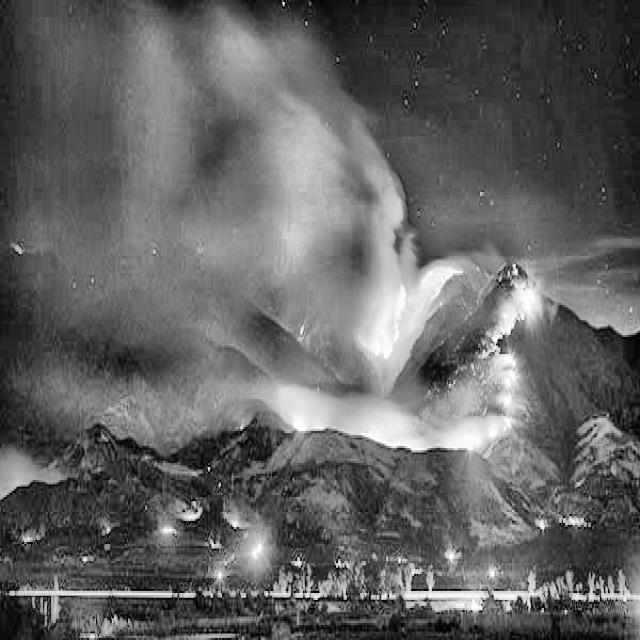fire: (301, 164, 587, 503)
